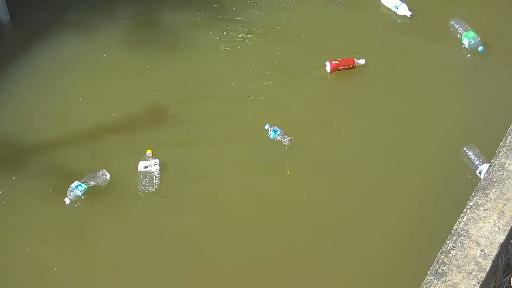plastic: (442, 8, 512, 69), (58, 155, 127, 205), (438, 136, 510, 174), (251, 118, 320, 152), (313, 46, 378, 79), (140, 142, 167, 199), (364, 0, 414, 30)
